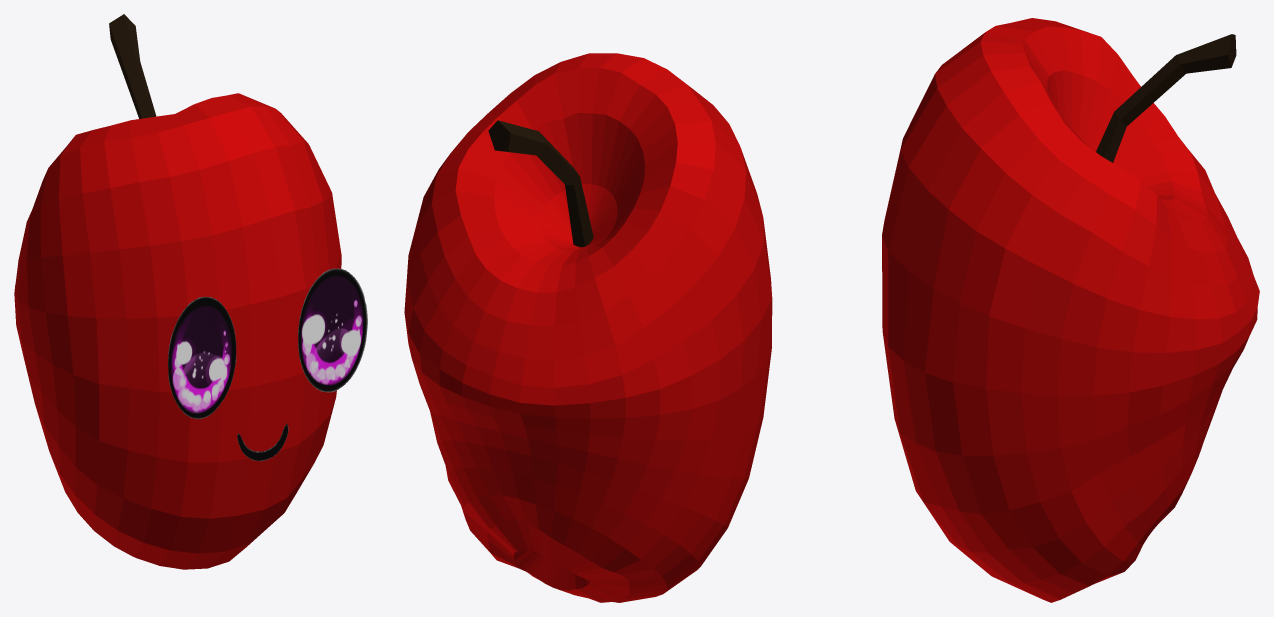
Rendered from Apple_000002.obj.
The picture shows the model from 3 angles, left to right: view 1: azimuth 30°, elevation 25°; view 2: azimuth 150°, elevation 25°; view 3: azimuth 270°, elevation 25°; orthographic projection. The views are drawn at different scales.
Parts seen in each view (by area): view 1: Bouncing_apple.001_Cylinder.005, Plane.002_Plane.003; view 2: Bouncing_apple.001_Cylinder.005; view 3: Bouncing_apple.001_Cylinder.005.
Boxes of the visible parts, x1,y1,x2,y2 form: Bouncing_apple.001_Cylinder.005: (14,14,341,569); Plane.002_Plane.003: (168,268,367,461); Bouncing_apple.001_Cylinder.005: (404,53,772,602); Bouncing_apple.001_Cylinder.005: (882,18,1259,602).
Size of the model in its own units: 1.58 by 2.55 by 1.68.
